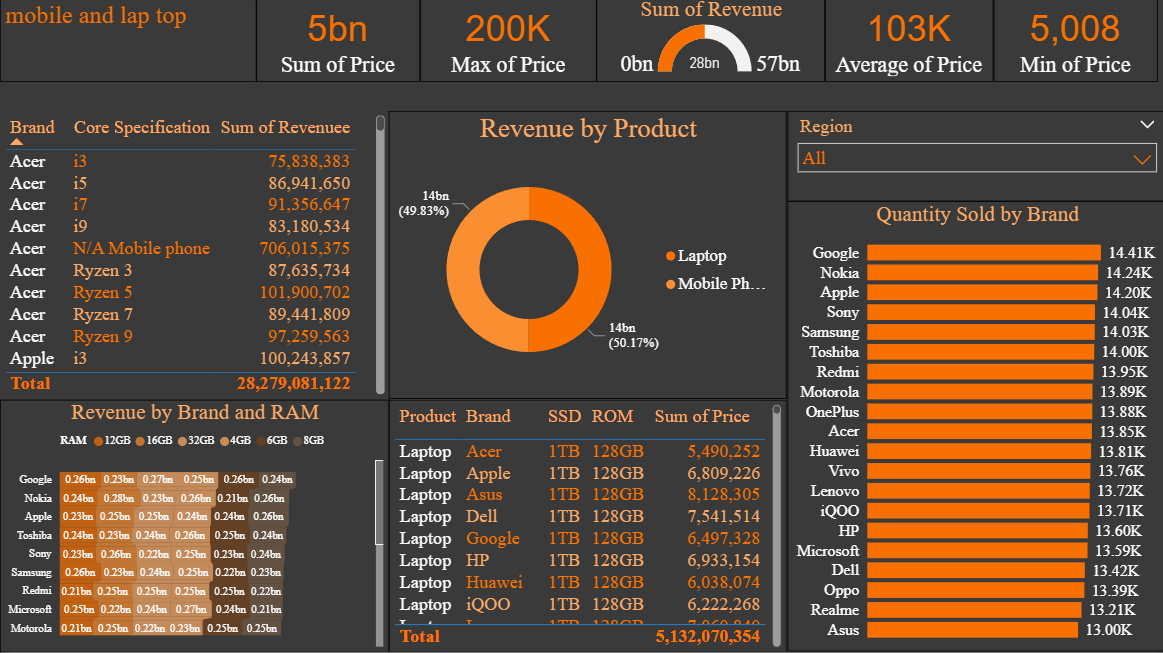

This screenshot's page, from the dashboard's own definition file:
{"tool":"powerbi","page":{"name":"dach board","canvas":[1280,720],"ordinal":0},"visuals":[{"type":"card","fields":{"Values":["Sum(mobile_sales_data.Price)"]},"box":[281.3,0,179.8,94.2],"z":0},{"type":"card","fields":{"Values":["Avg(mobile_sales_data.Price)"]},"box":[906,0,184.6,94.1],"z":1000},{"type":"donutChart","fields":{"Y":["Sum(mobile_sales_data.Revenue)"],"Category":["mobile_sales_data.Product"]},"box":[427.1,126.7,436.7,316.1],"z":2000},{"type":"barChart","fields":{"Category":["mobile_sales_data.Brand"],"Y":["Sum(mobile_sales_data.Revenue)"],"Series":["mobile_sales_data.RAM"]},"box":[0,442.8,427.1,277.5],"z":3000},{"type":"card","fields":{"Values":["Max(mobile_sales_data.Price)"]},"box":[460.9,0,194.2,94.1],"z":4000},{"type":"card","fields":{"Values":["Min(mobile_sales_data.Price)"]},"box":[1090.8,0,179.8,94.2],"z":5000},{"type":"textbox","box":[0,0,281.3,94.2],"z":6000},{"type":"tableEx","fields":{"Values":["mobile_sales_data.Product","mobile_sales_data.Brand","mobile_sales_data.SSD","mobile_sales_data.ROM","Sum(mobile_sales_data.Price)"]},"box":[427.1,442.8,436.7,277.5],"z":7000},{"type":"tableEx","fields":{"Values":["mobile_sales_data.Brand","mobile_sales_data.Core Specification","Sum(mobile_sales_data.Revenue)"]},"box":[0,126.7,427.1,316.1],"z":8000},{"type":"barChart","fields":{"Category":["mobile_sales_data.Brand"],"Y":["Sum(mobile_sales_data.Quantity Sold)"]},"box":[863.8,225.6,416.2,494.6],"z":9000},{"type":"slicer","fields":{"Values":["mobile_sales_data.Region"]},"box":[863.8,126.7,416.2,98.9],"z":10000},{"type":"gauge","fields":{"Y":["Sum(mobile_sales_data.Revenue)"]},"box":[655.1,0,250.9,94.1],"z":11000}]}

Visuals, with their boxes in screenshot pixels (x1, y1, x2, y2), scaled from the page's 1280x720 canvas onto the 1163x653 screenshot:
card - Sum(mobile_sales_data.Price): {"left": 256, "top": 0, "right": 419, "bottom": 85}
card - Avg(mobile_sales_data.Price): {"left": 823, "top": 0, "right": 991, "bottom": 85}
donutChart - Sum(mobile_sales_data.Revenue) x mobile_sales_data.Product: {"left": 388, "top": 115, "right": 785, "bottom": 402}
barChart - mobile_sales_data.Brand x Sum(mobile_sales_data.Revenue): {"left": 0, "top": 402, "right": 388, "bottom": 652}
card - Max(mobile_sales_data.Price): {"left": 419, "top": 0, "right": 595, "bottom": 85}
card - Min(mobile_sales_data.Price): {"left": 991, "top": 0, "right": 1154, "bottom": 85}
textbox: {"left": 0, "top": 0, "right": 256, "bottom": 85}
tableEx - mobile_sales_data.Product x mobile_sales_data.Brand: {"left": 388, "top": 402, "right": 785, "bottom": 652}
tableEx - mobile_sales_data.Brand x mobile_sales_data.Core Specification: {"left": 0, "top": 115, "right": 388, "bottom": 402}
barChart - mobile_sales_data.Brand x Sum(mobile_sales_data.Quantity Sold): {"left": 785, "top": 205, "right": 1162, "bottom": 652}
slicer - mobile_sales_data.Region: {"left": 785, "top": 115, "right": 1162, "bottom": 205}
gauge - Sum(mobile_sales_data.Revenue): {"left": 595, "top": 0, "right": 823, "bottom": 85}
